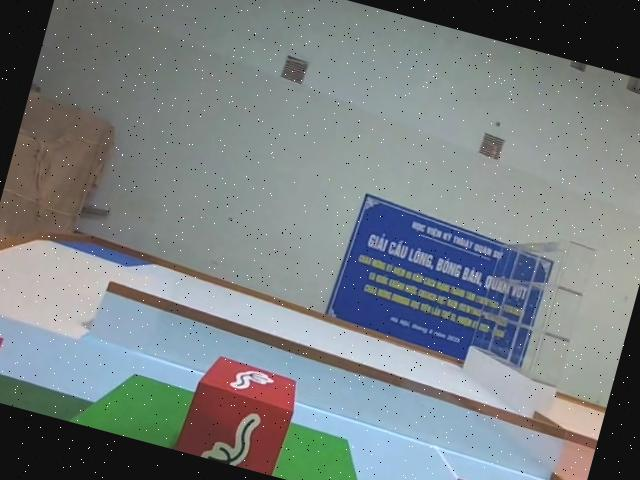R2 Real: (175, 347, 304, 477)
